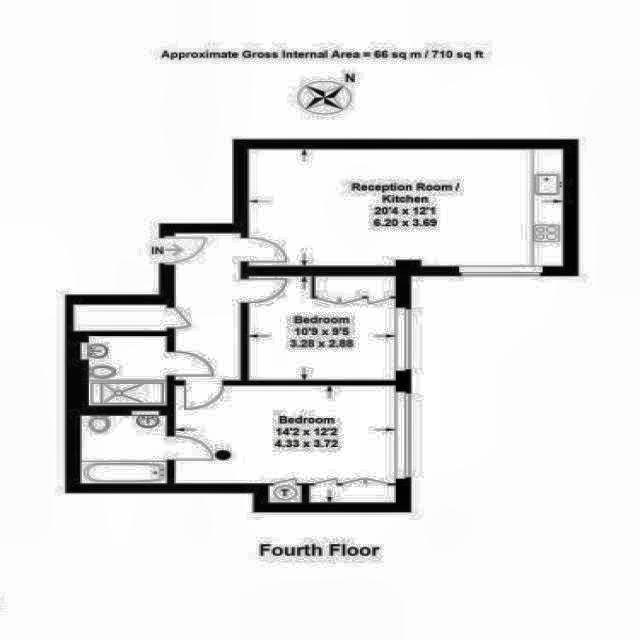room: (249, 150, 562, 266), (175, 385, 396, 503), (249, 276, 395, 380), (176, 233, 240, 380), (82, 416, 167, 483), (89, 336, 166, 405), (74, 305, 166, 330)
